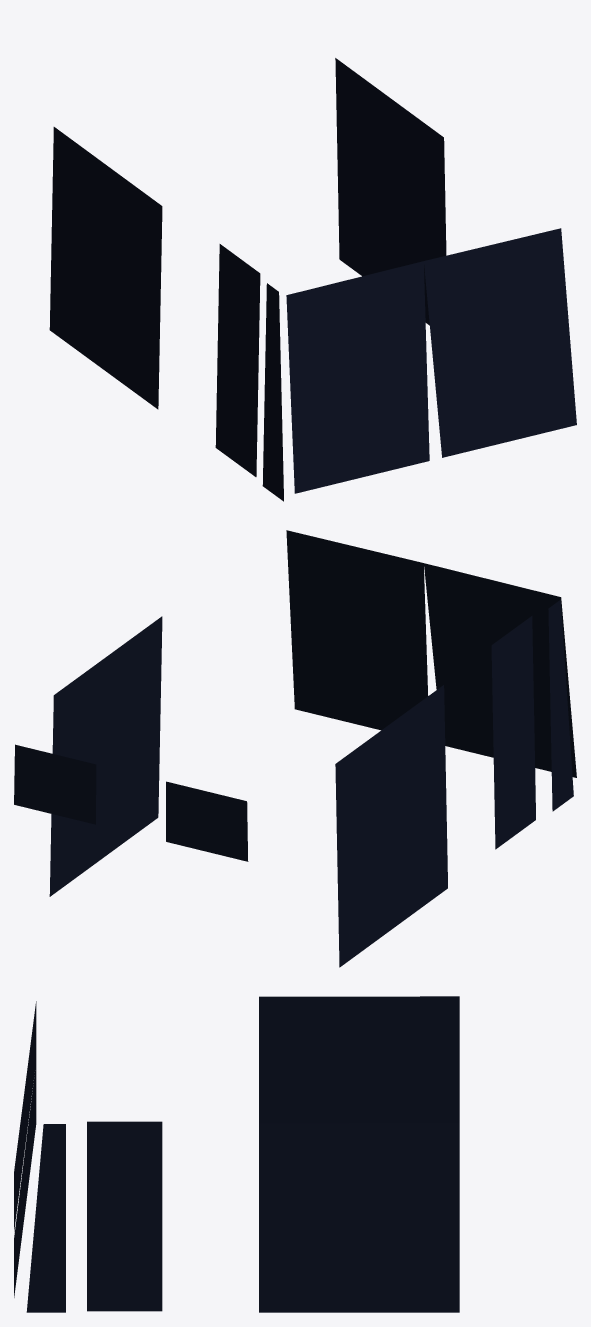
Rendered from Car3Glass.fbx.
The picture shows the model from 3 angles, top to bottom: view 1: azimuth 30°, elevation 25°; view 2: azimuth 150°, elevation 25°; view 3: azimuth 270°, elevation 25°; orthographic projection. The views are drawn at different scales.
Visible parts, largest first — view 1: Car3Glass; view 2: Car3Glass; view 3: Car3Glass.
Part boxes in pixels (<box>): Car3Glass: <box>49,58,576,501</box>; Car3Glass: <box>14,530,576,967</box>; Car3Glass: <box>14,996,459,1312</box>.
Bounding box in the file's own units: 2.52 × 1.72 × 4.6.
